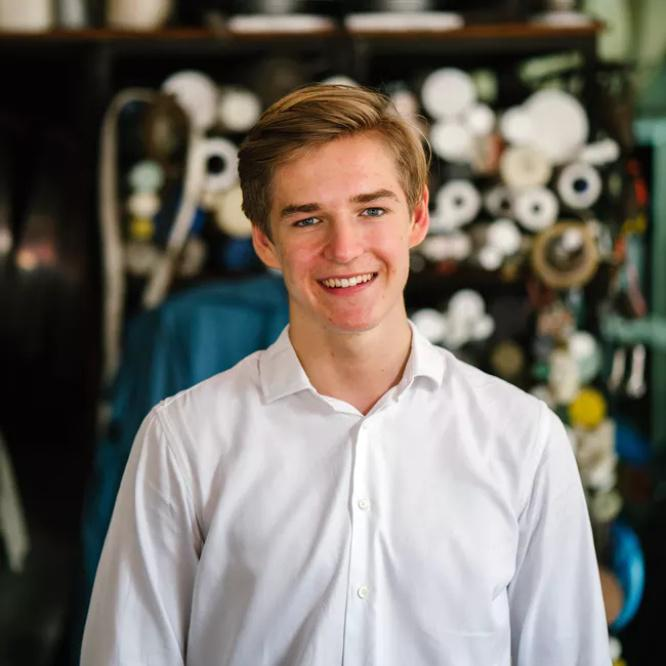face: (268, 135, 415, 332)
